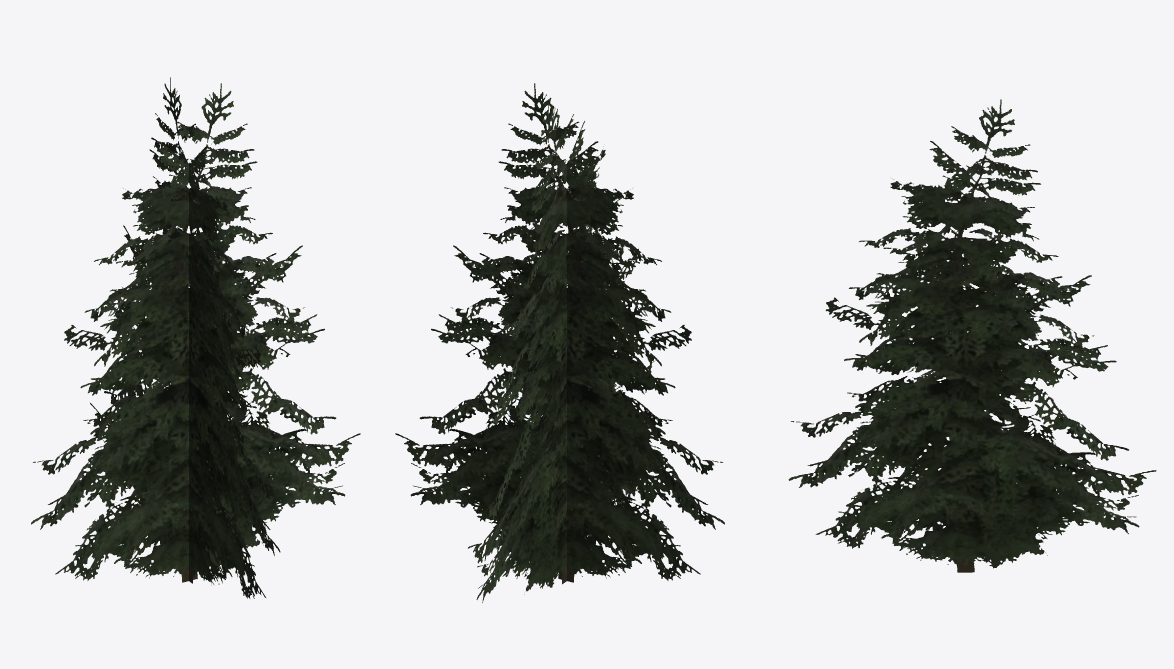
Rendered from baum_fichte_4_lod2.glb.
3 views of the same model, side by side, from view 1: azimuth 30°, elevation 25°; view 2: azimuth 150°, elevation 25°; view 3: azimuth 270°, elevation 25° (orthographic). The views are drawn at different scales.
Visible parts, largest first — view 1: Billboard; view 2: Billboard; view 3: Billboard.
Boxes of the visible parts, x1,y1,x2,y2 form: Billboard: [31, 77, 360, 598]; Billboard: [395, 83, 724, 602]; Billboard: [788, 99, 1156, 572].
Size of the model in its own units: 9.63 by 13 by 9.63.
1 material, 1 textured.
